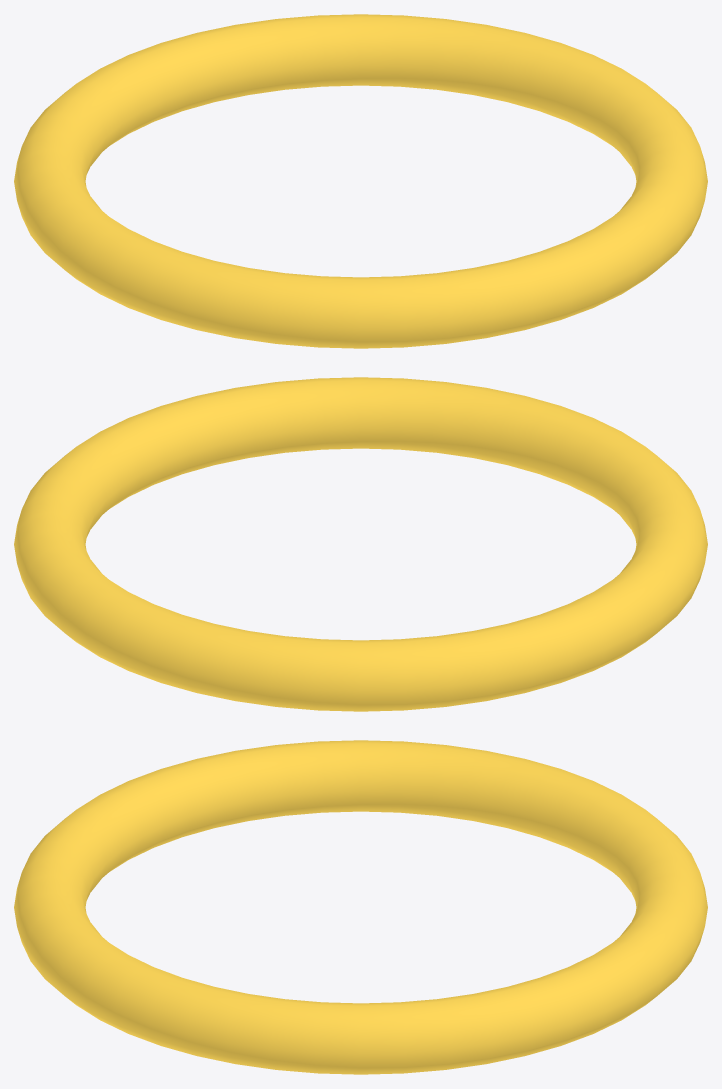
File: accessory-halo.glb
The picture shows the model from 3 angles, top to bottom: view 1: azimuth 30°, elevation 25°; view 2: azimuth 150°, elevation 25°; view 3: azimuth 270°, elevation 25°; orthographic projection.
Parts seen in each view (by area): view 1: accessory__Torus_001__0; view 2: accessory__Torus_001__0; view 3: accessory__Torus_001__0.
Boxes of the visible parts, bbox=[...] form: accessory__Torus_001__0: bbox=[14, 14, 707, 348]; accessory__Torus_001__0: bbox=[14, 377, 707, 711]; accessory__Torus_001__0: bbox=[14, 740, 707, 1074].
Bounding box in the file's own units: 0.6452 × 0.0665 × 0.6452.
